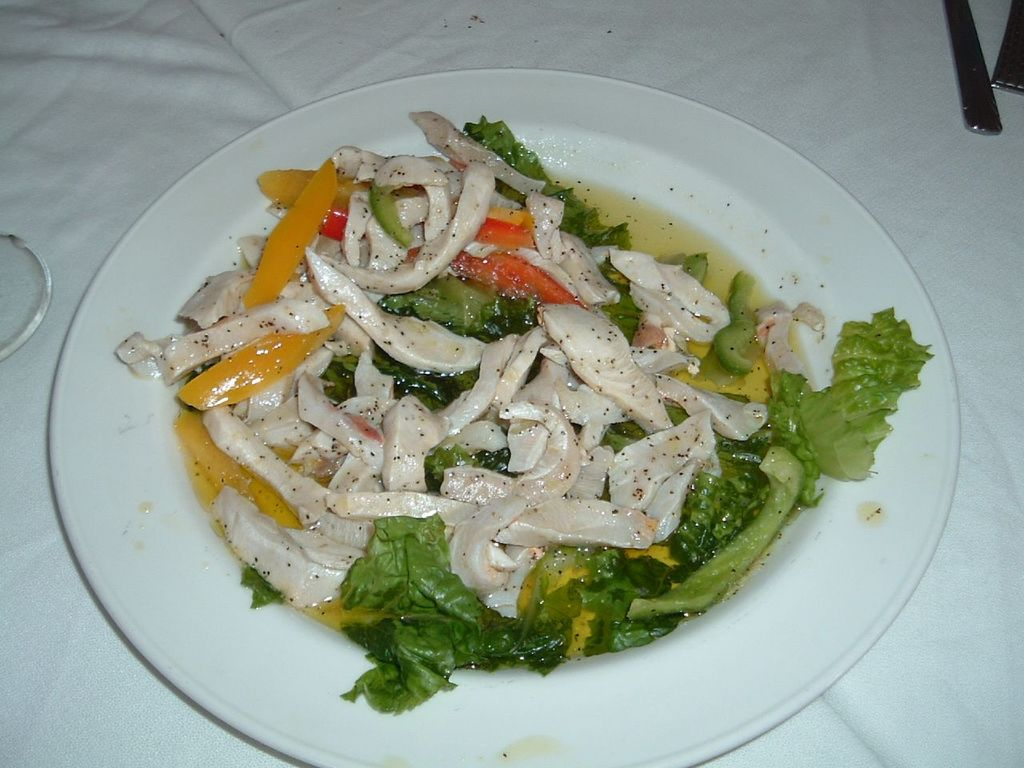salad: (105, 94, 930, 718)
